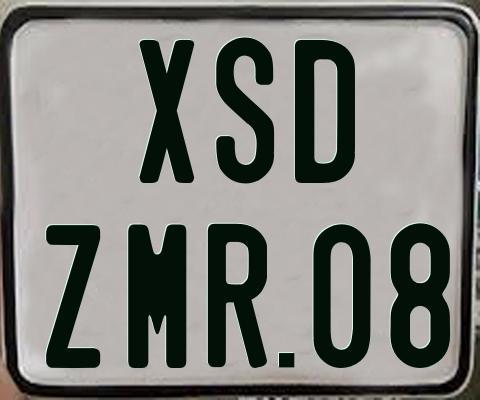0: (313, 224, 375, 371)
8: (389, 220, 453, 370)
D: (294, 39, 360, 186)
M: (128, 224, 186, 373)
R: (208, 221, 268, 365)
S: (214, 34, 278, 182)
X: (140, 39, 195, 185)
Z: (43, 223, 103, 366)
